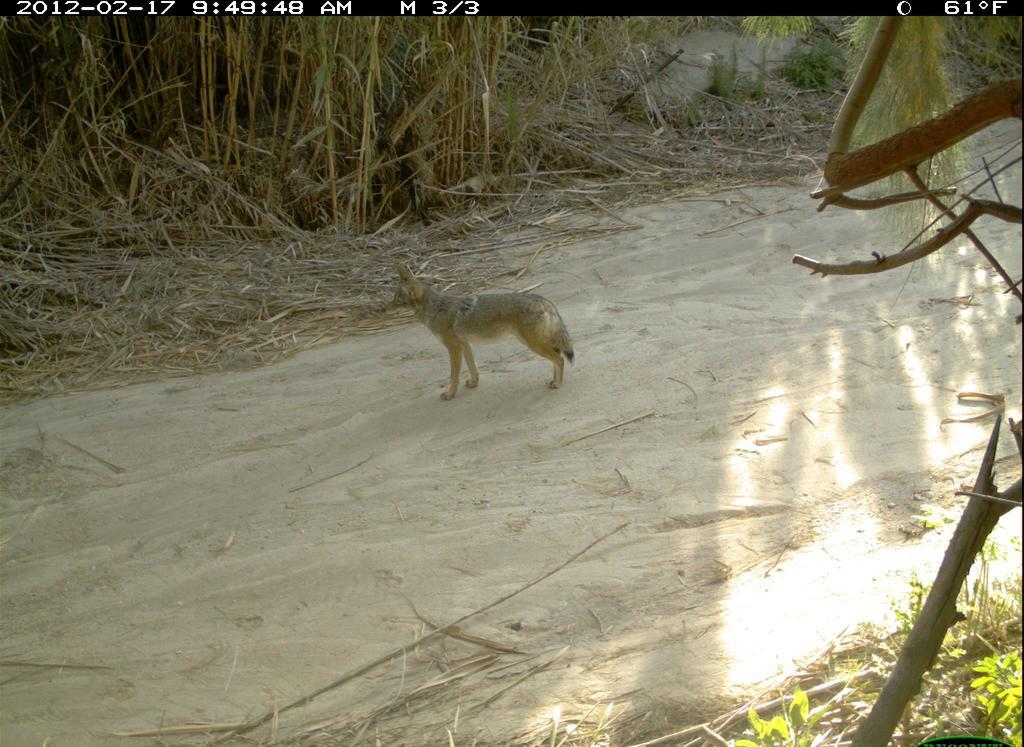coyote: (378, 260, 578, 406)
